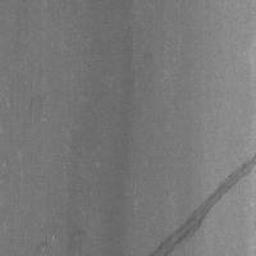Water spot: (65, 3, 140, 256), (143, 152, 256, 256)
